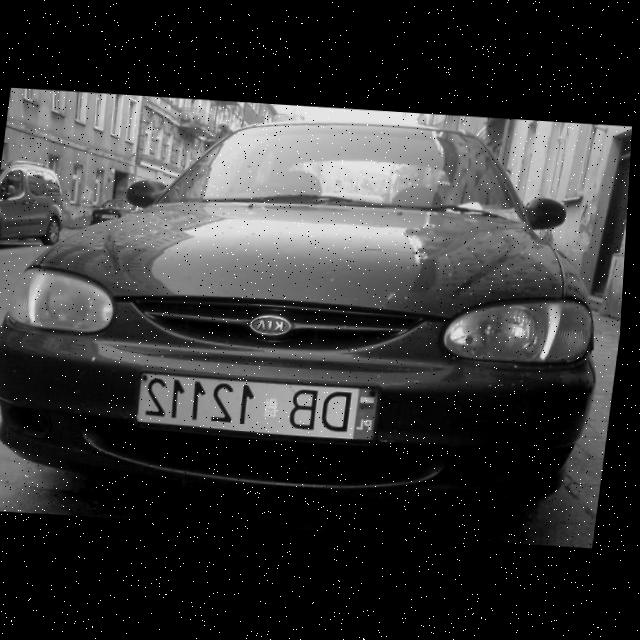license-plates: (135, 374, 377, 441)
